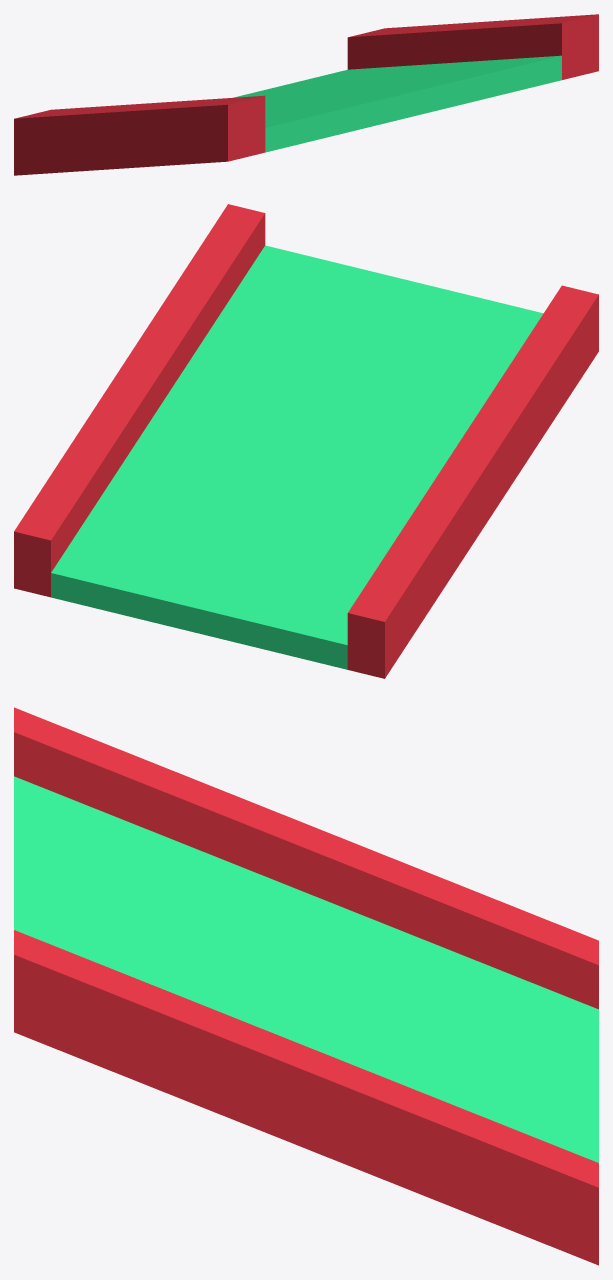
The model's file is rampC.fbx.
3 renders of one model, top to bottom at view 1: azimuth 30°, elevation 25°; view 2: azimuth 150°, elevation 25°; view 3: azimuth 270°, elevation 25°, orthographic. The views are drawn at different scales.
Parts seen in each view (by area): view 1: rampC; view 2: rampC; view 3: rampC.
Boxes of the visible parts, x1,y1,x2,y2 form: rampC: [14, 14, 598, 175]; rampC: [14, 204, 598, 678]; rampC: [14, 707, 598, 1265].
Size of the model in its own units: 10 by 5.87 by 10.
